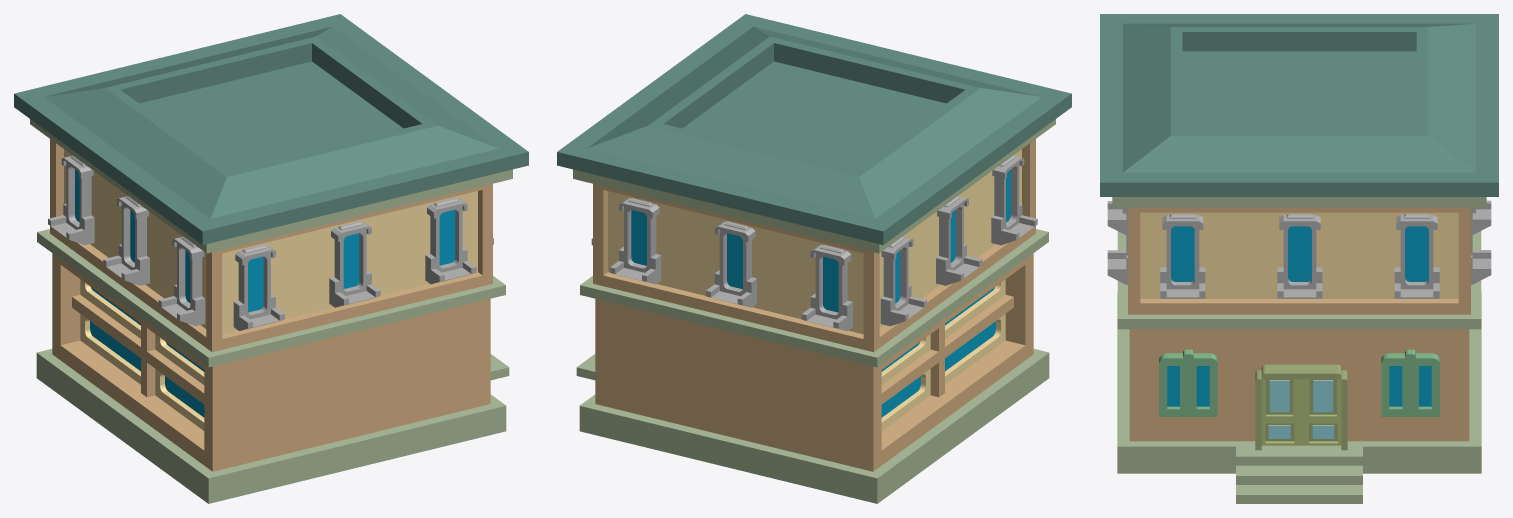
The model's file is building3.fbx.
3 renders of one model, left to right at view 1: azimuth 30°, elevation 25°; view 2: azimuth 150°, elevation 25°; view 3: azimuth 270°, elevation 25°, orthographic. The views are drawn at different scales.
Visible parts, largest first — view 1: Base3, Window4.001, Window3.001; view 2: Base3, Window2.001, Window3.001; view 3: Base3, Window1.001, Window4.001, Window2.001.
Boxes of the visible parts, x1,y1,x2,y2 form: Base3: (14,14,528,503); Window4.001: (233,198,476,330); Window3.001: (48,155,205,326); Base3: (557,14,1071,503); Window2.001: (610,198,852,331); Window3.001: (880,155,1037,326); Base3: (1100,14,1498,503); Window1.001: (1160,214,1439,298); Window4.001: (1107,201,1127,284); Window2.001: (1471,200,1491,284).
Size of the model in its own units: 386 by 296 by 339.
